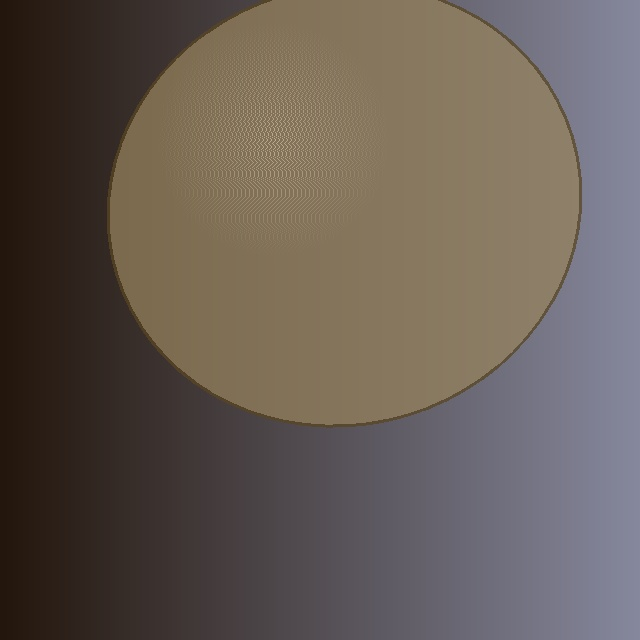lens: (108, 0, 580, 425)
